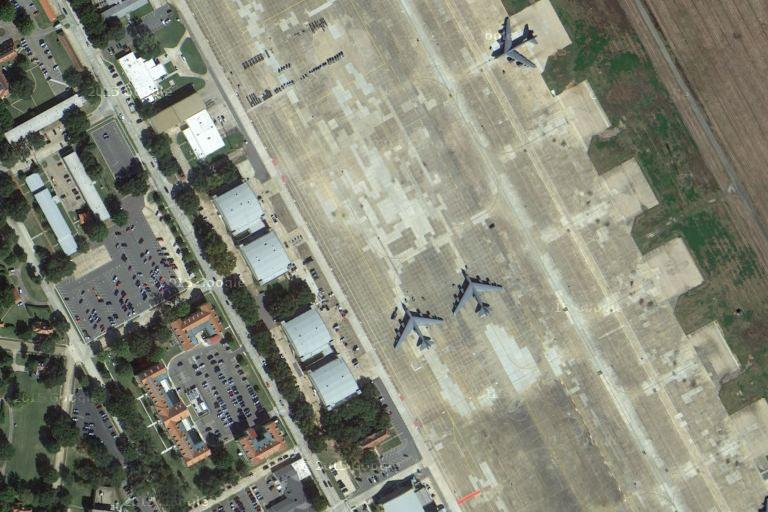B-52: (484, 14, 545, 72), (447, 267, 508, 321), (389, 300, 447, 351)
